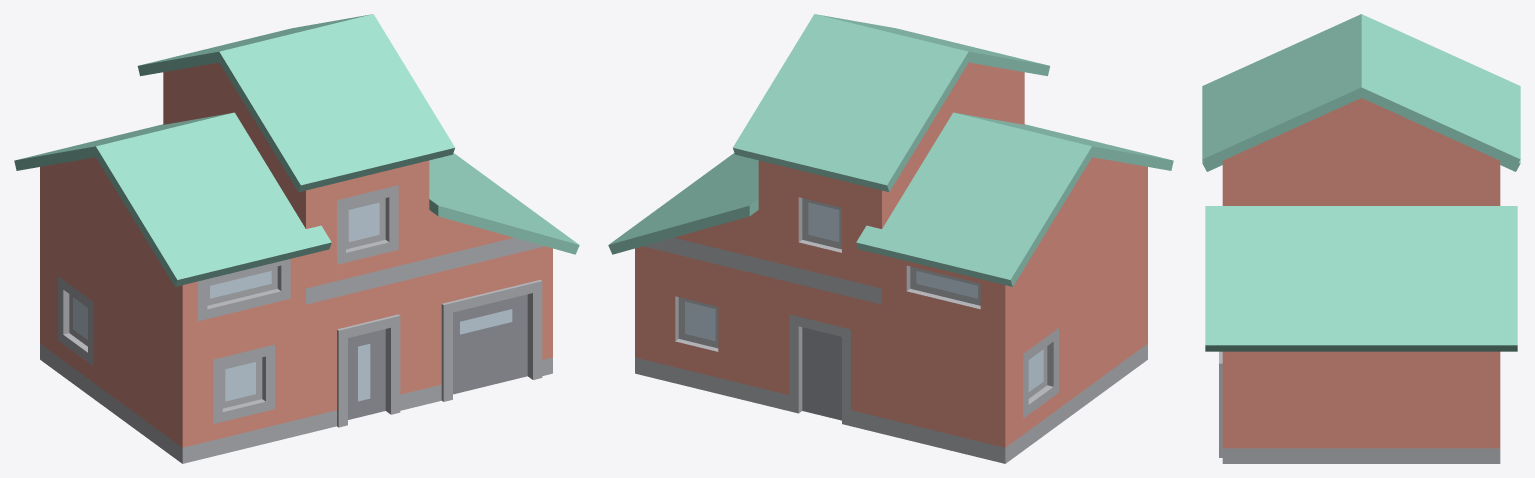
File: house_type14.glb
3 views of the same model, side by side, from view 1: azimuth 30°, elevation 25°; view 2: azimuth 150°, elevation 25°; view 3: azimuth 270°, elevation 25° (orthographic). The views are drawn at different scales.
Parts seen in each view (by area): view 1: house_type14; view 2: house_type14; view 3: house_type14.
Boxes of the visible parts, bbox=[...] form: house_type14: bbox=[14, 14, 579, 463]; house_type14: bbox=[608, 14, 1173, 463]; house_type14: bbox=[1202, 14, 1520, 463].
Size of the model in its own units: 12.43 by 9.82 by 8.7.
